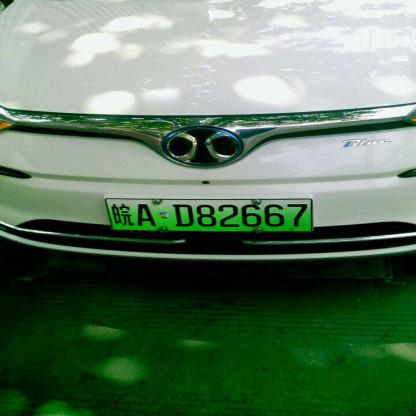lp: (104, 198, 312, 230)
